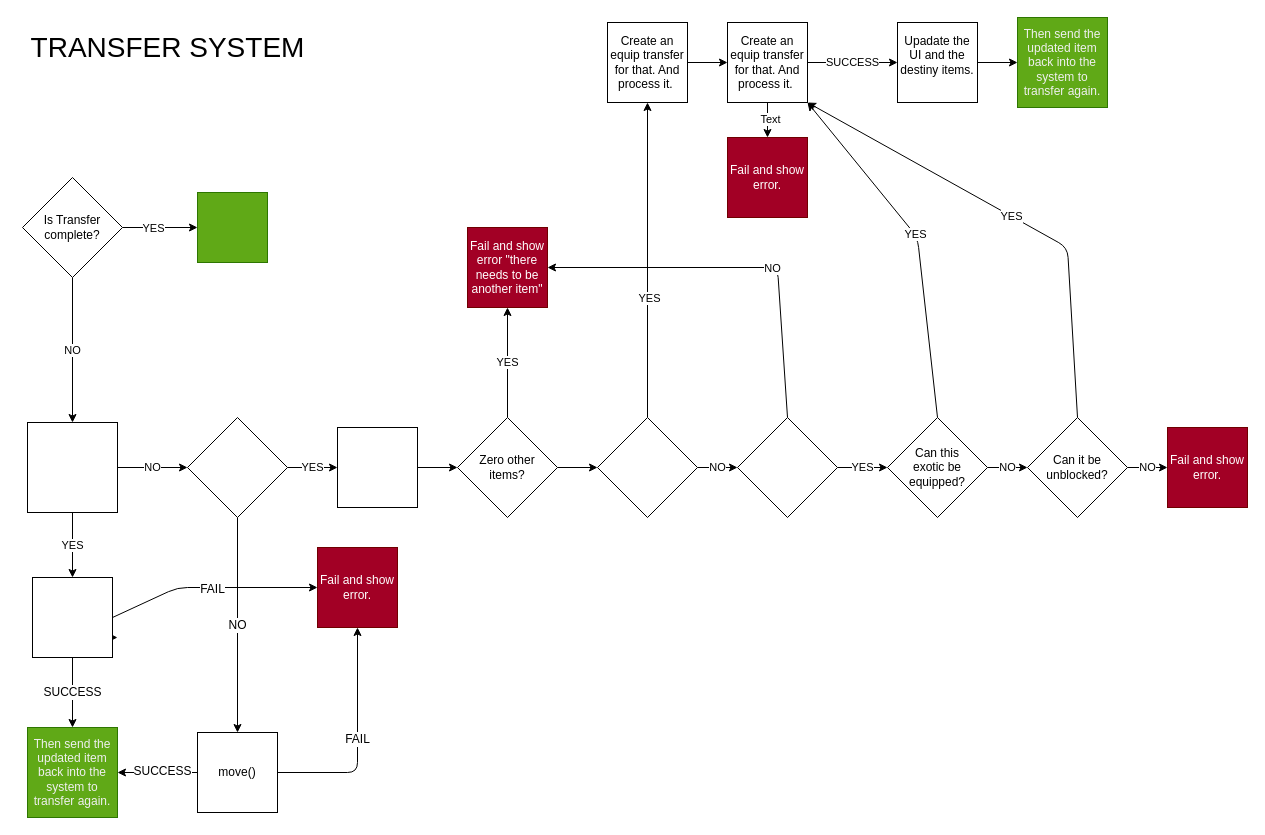
Some shapes in this 1265 by 835 pixel diagram are drawn without their labels. Each missing label, with the centre of its shape:
Any exotic?: pixel 787 467
Are any non exotic?: pixel 647 467
equip(): pixel 72 617
Is item equipped?: pixel 237 467
Is the item at the target character?: pixel 72 467
Show transfer complete: pixel 232 227
Unequip(): pixel 377 467
